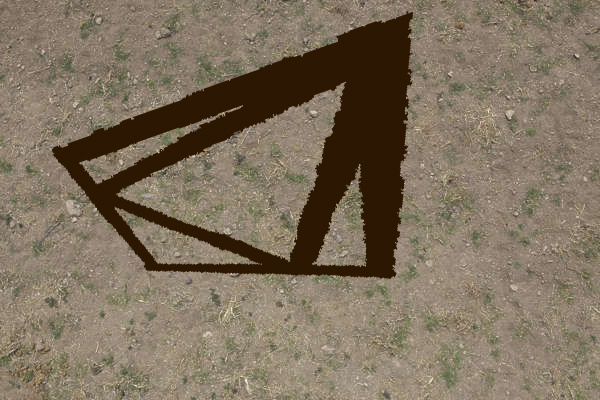marker: (44, 9, 422, 290)
